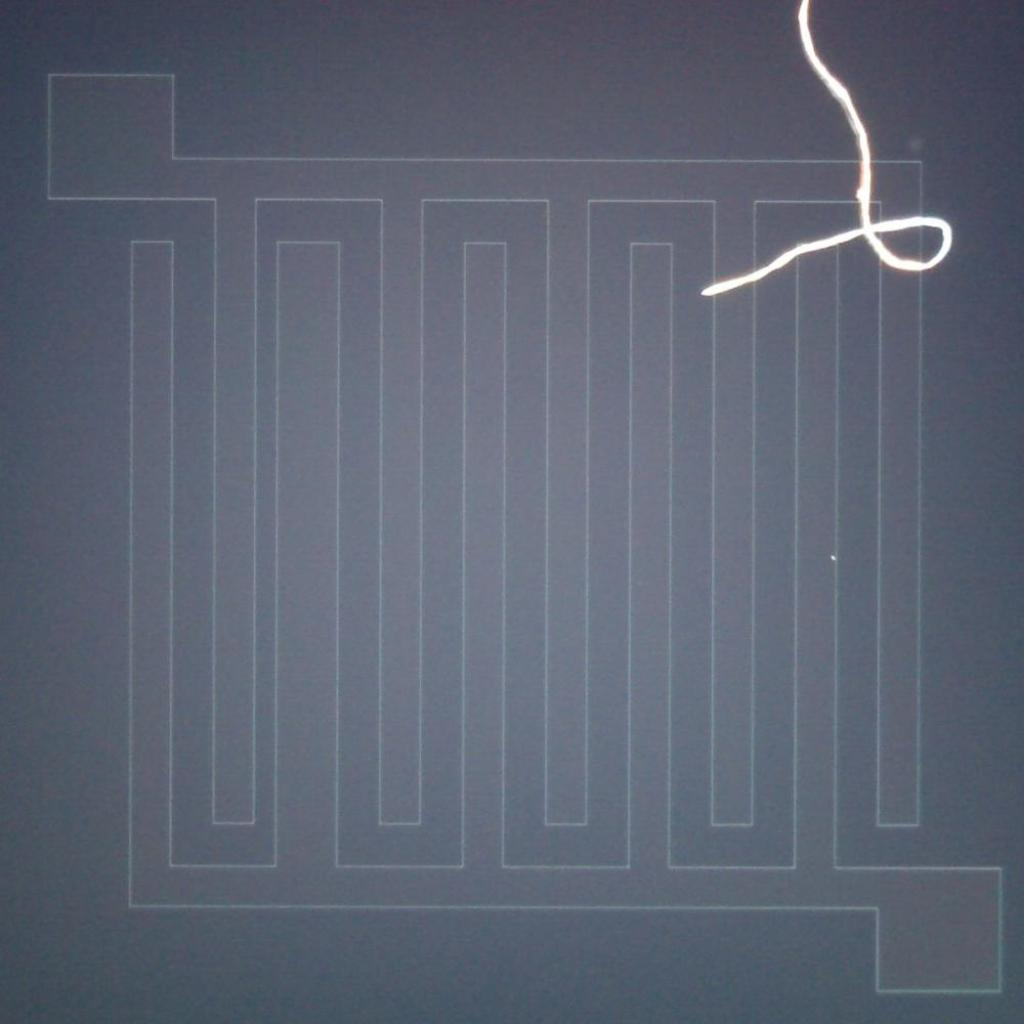curve: (840, 206, 879, 245), (756, 246, 796, 284), (882, 204, 921, 240), (923, 244, 960, 280), (882, 242, 920, 276), (790, 22, 826, 57), (838, 92, 873, 127), (716, 263, 752, 297), (810, 56, 846, 90), (847, 164, 882, 198), (800, 228, 836, 261), (923, 209, 957, 242), (846, 128, 880, 160)
dot: (830, 555, 836, 561)
